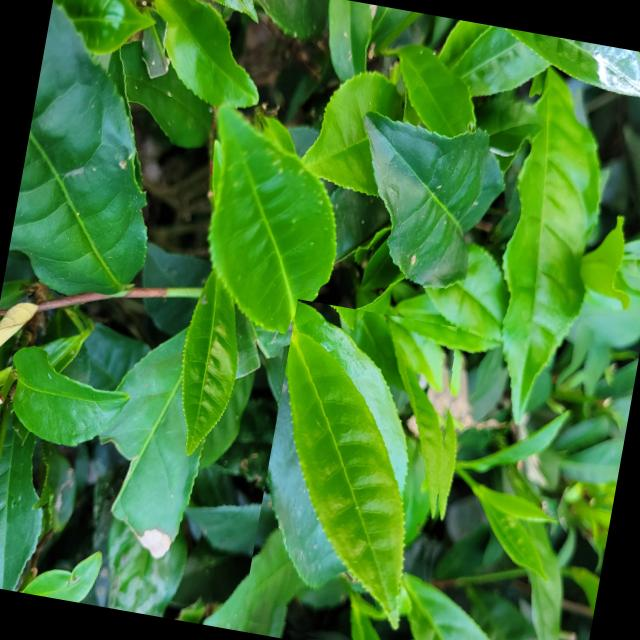Catagory A(1-2 days): (237, 298, 477, 640)
